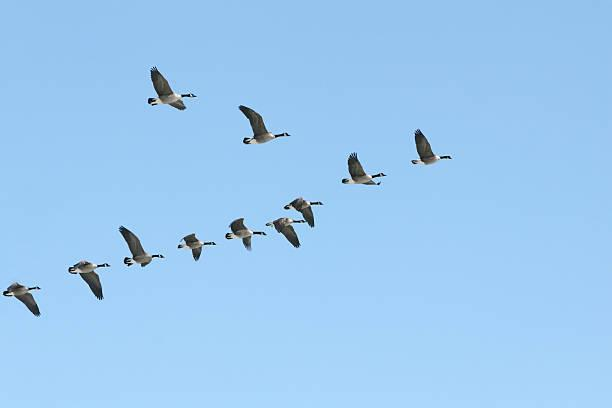Canadian-Goose: (145, 65, 196, 116), (236, 103, 291, 146), (120, 223, 165, 273), (68, 257, 110, 305), (338, 151, 387, 190), (407, 128, 453, 169), (5, 277, 42, 317), (224, 218, 266, 251), (268, 216, 307, 247), (283, 197, 326, 225), (180, 231, 216, 259)
